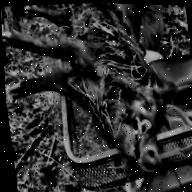boar: (1, 0, 192, 182)
